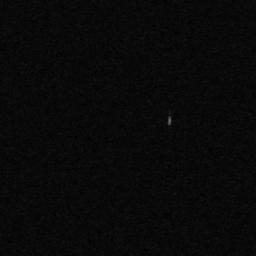ship: (165, 114, 173, 127)
